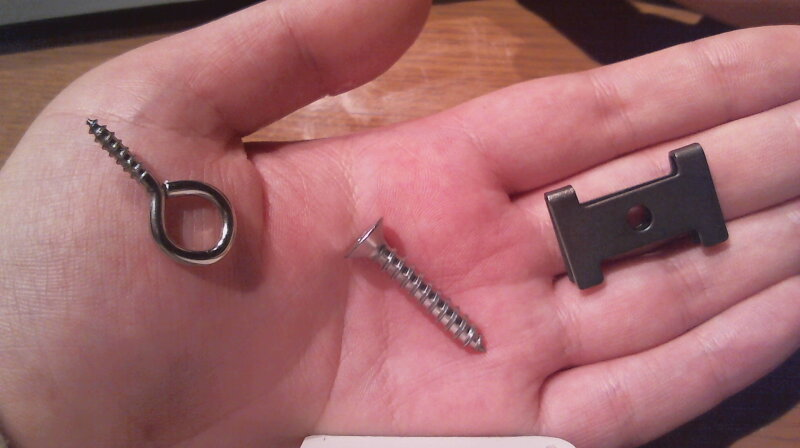O001: (80, 114, 231, 270)
O002: (545, 143, 726, 289)
S001: (341, 214, 493, 358)
